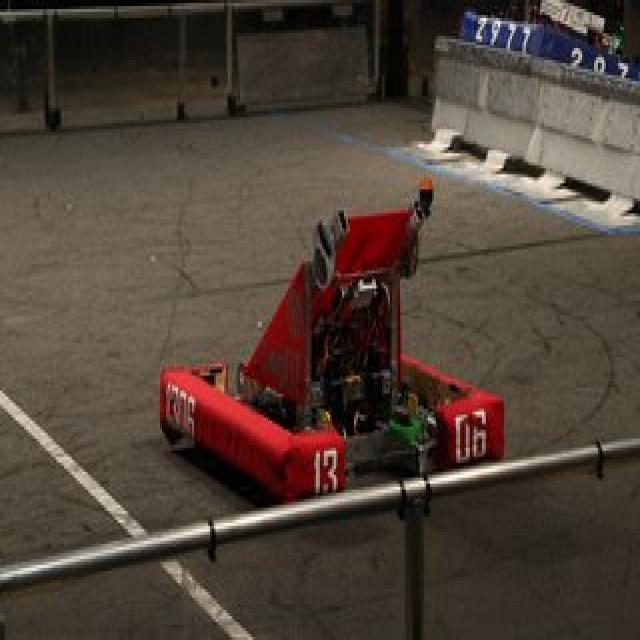robot: (153, 170, 514, 514), (452, 1, 638, 88)
